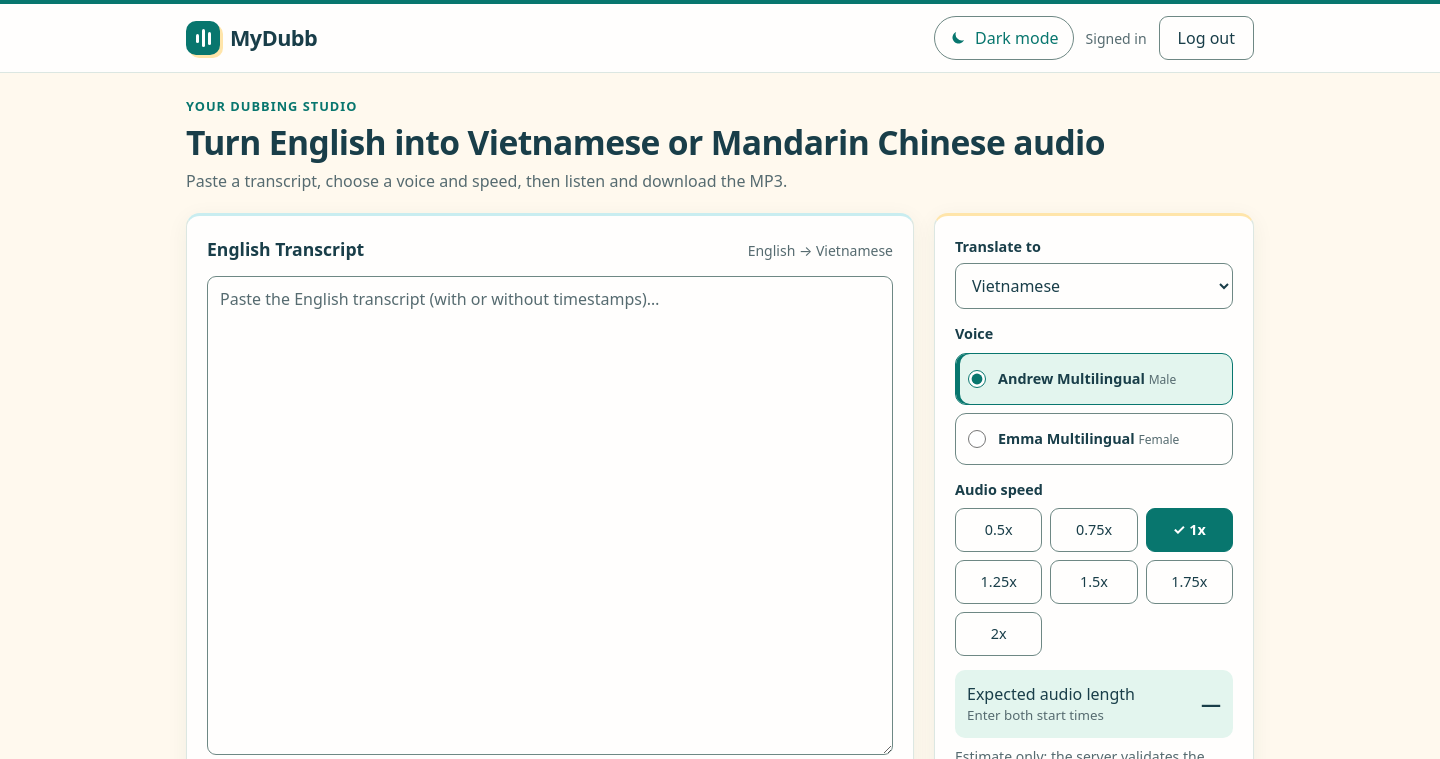
it: Translate to › shows the server's answer about the language next to the selector
Type "Spring Boot uses JSON." into the text box labelled "English Transcript".
click(550, 515); type("Spring Boot uses JSON.")  # box [207,276,893,755]
(page scrolled)
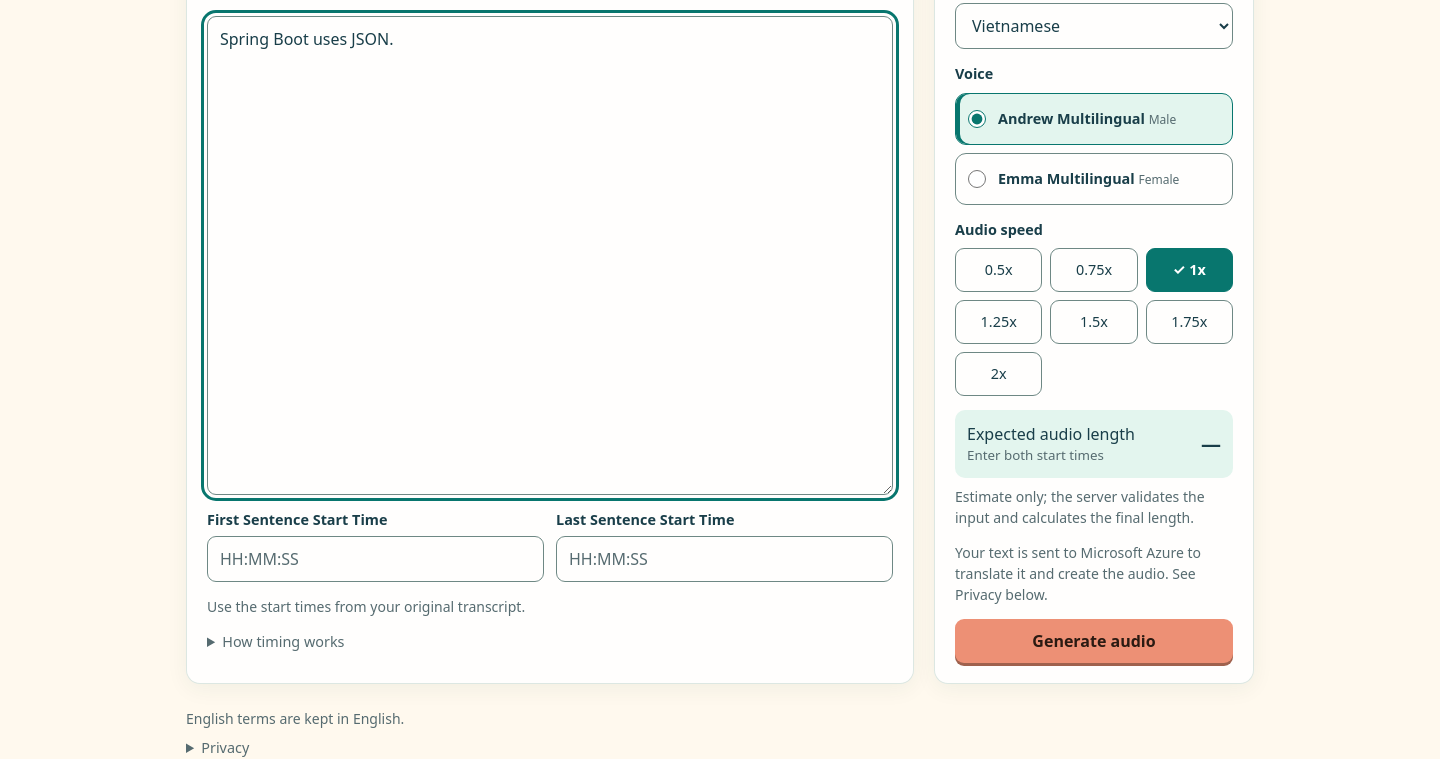
Type "00:00:10" into the field labelled "First Sentence Start Time".
click(376, 559); type("00:00:10")  # box [207,536,544,582]
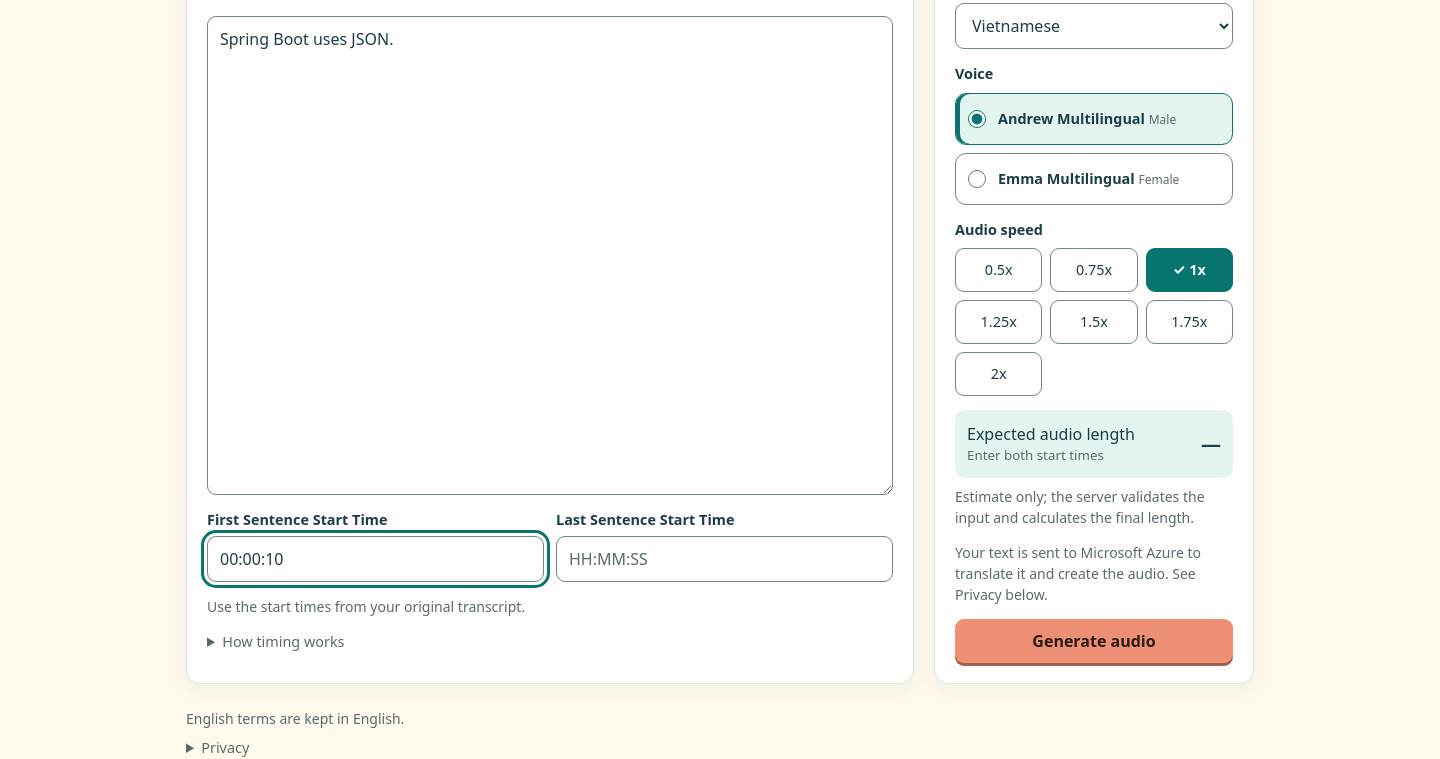
Type "00:06:10" into the field labelled "Last Sentence Start Time".
click(724, 559); type("00:06:10")  # box [556,536,893,582]
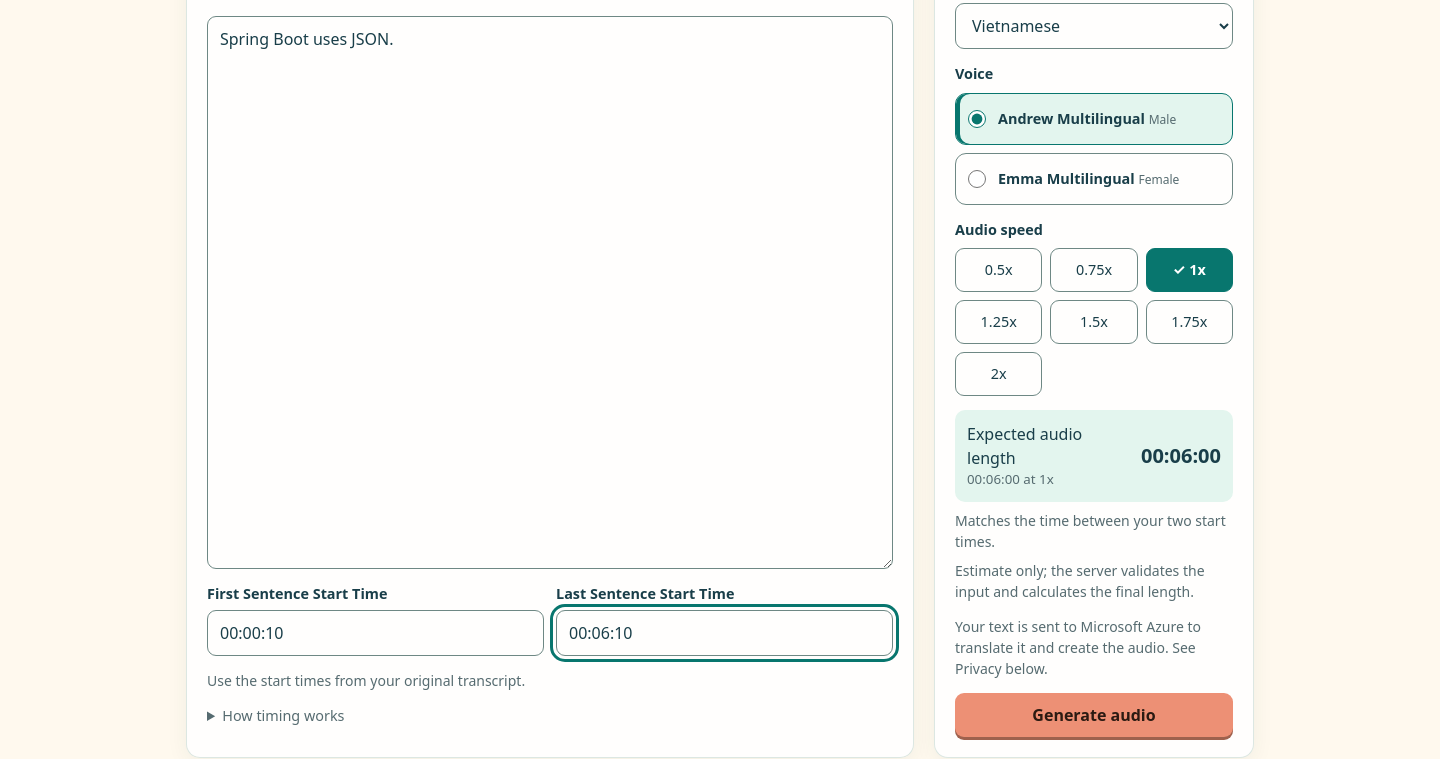
Click the button "Generate audio".
click(1094, 715)  # box [955,693,1233,737]
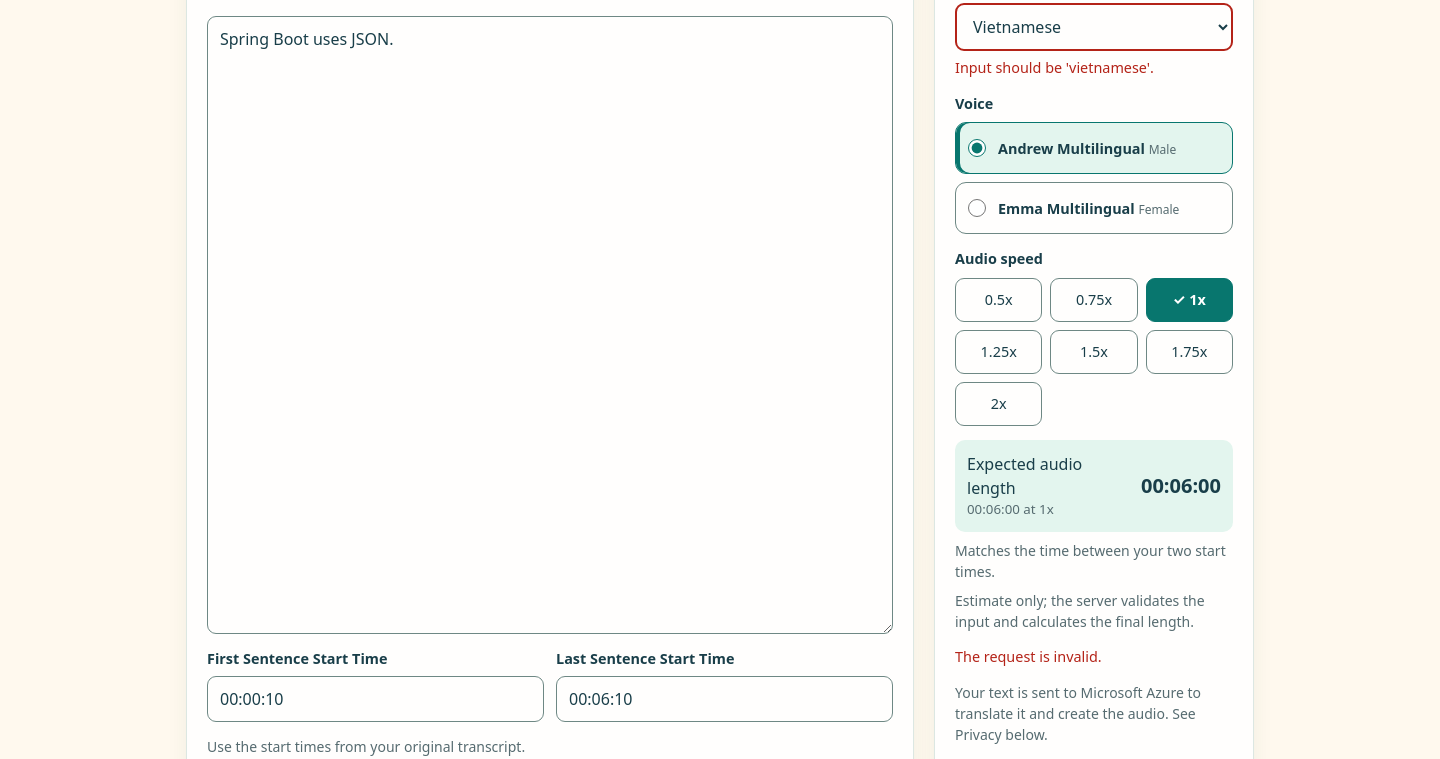
Result: the text "Input should be 'vietnamese'." is shown at [955,58,1154,77]
